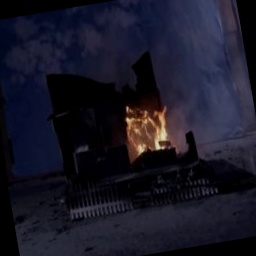fire: (114, 91, 181, 164)
